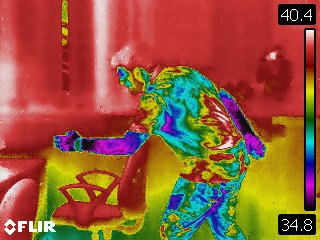human: (51, 42, 267, 240)
